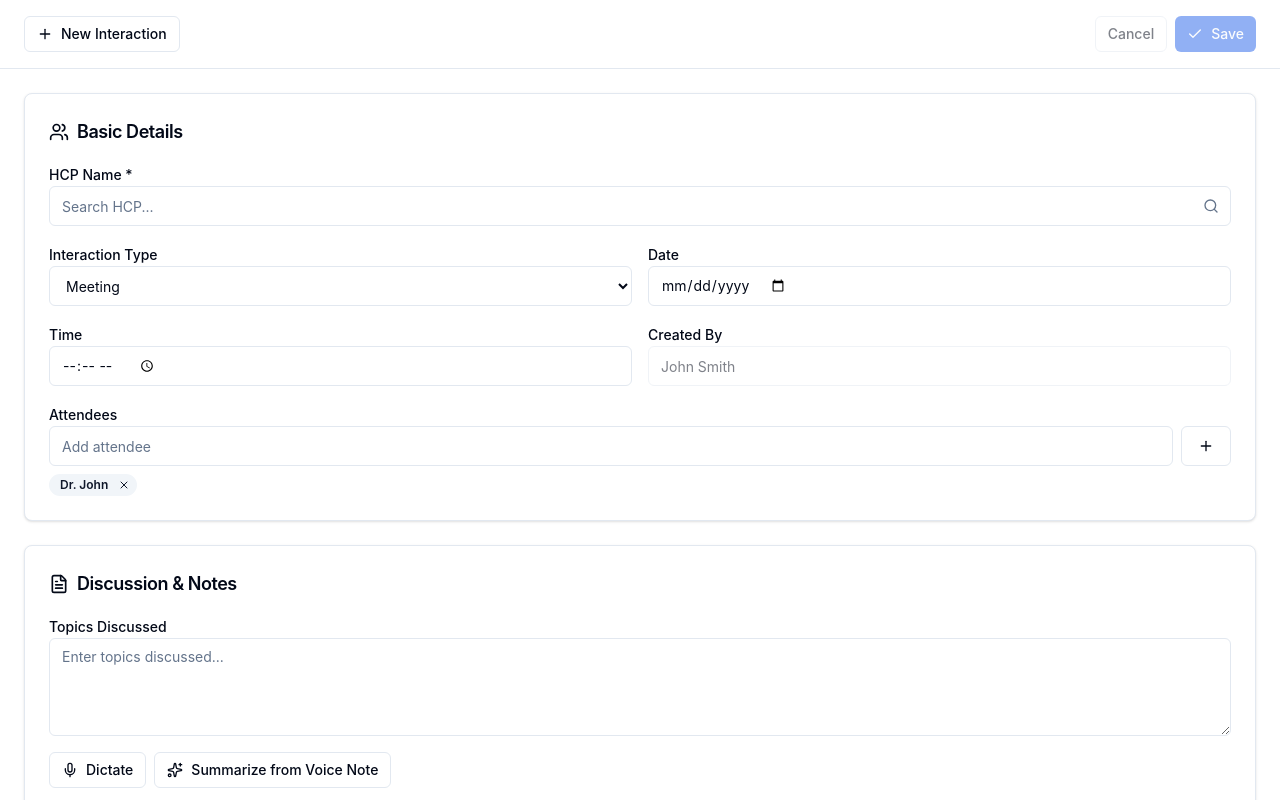
Test: InteractionForm UI Functionality › Attendees Management › should remove attendee when clicking X
This screenshot has width=1280, height=800.
What coordinates should you click on to do the following:
click the button without text next to "Dr. John"
I would click on:
 (124, 485)
Its box is x1=116 y1=477 x2=132 y2=493.
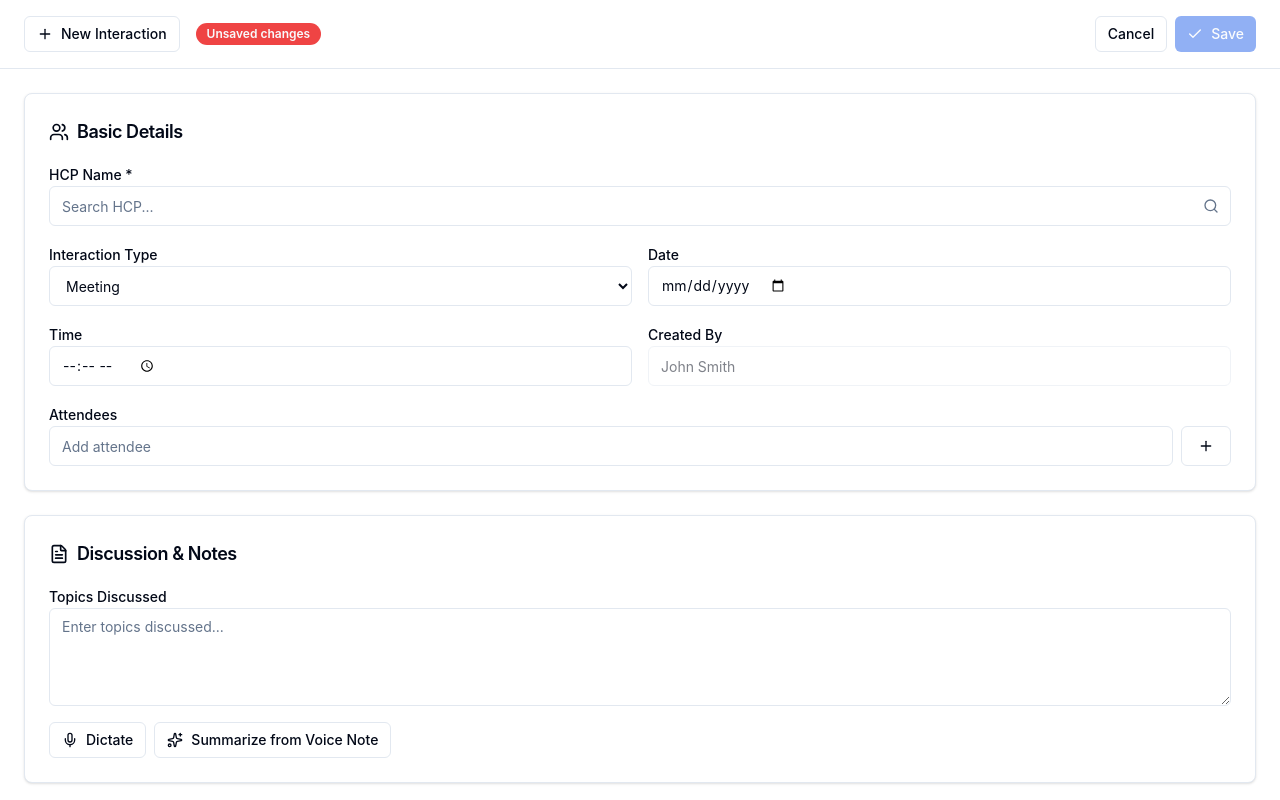
Check: the text "Dr. John" is gone
